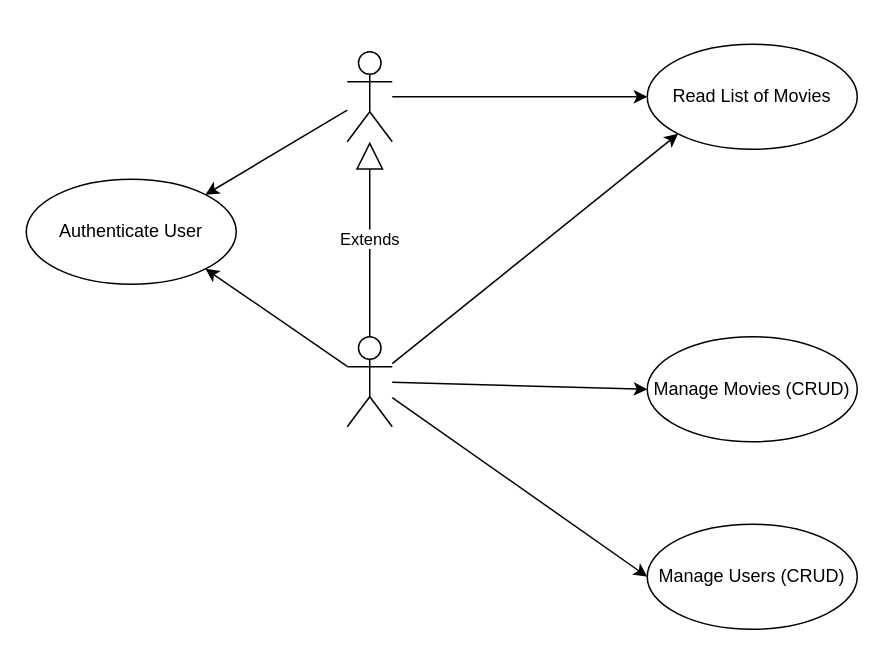
Some shapes in this 884 by 656 pixel diagram are drawn without their labels. Each missing label, with the box of its shape:
Auth User: (346, 335, 392, 427)
User: (346, 50, 392, 142)
